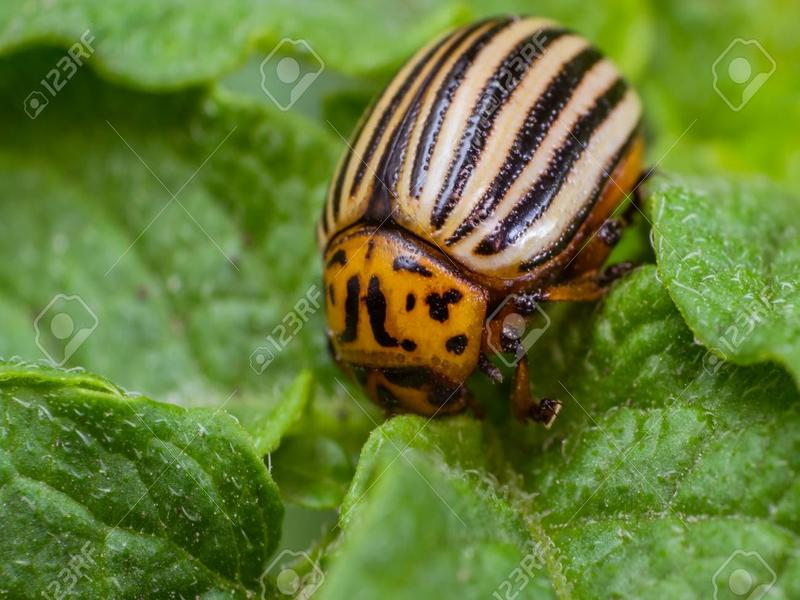hrosc: (310, 14, 658, 425)
